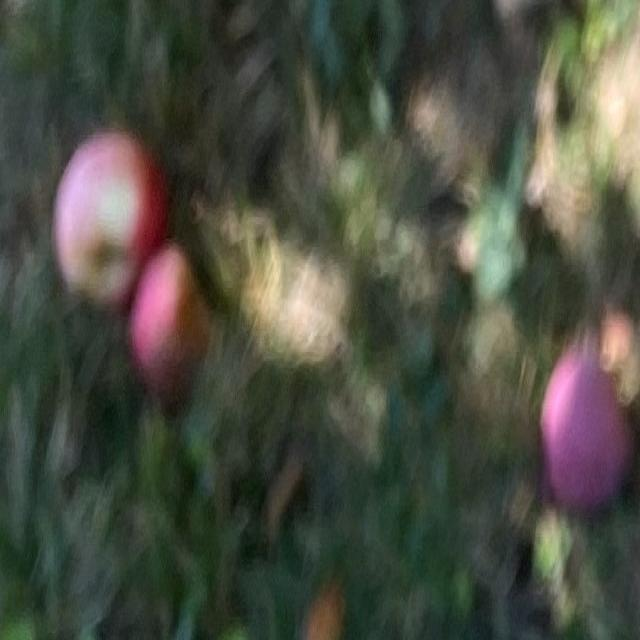100-_ripeness: (55, 132, 169, 302), (541, 352, 630, 508), (131, 245, 209, 393)
